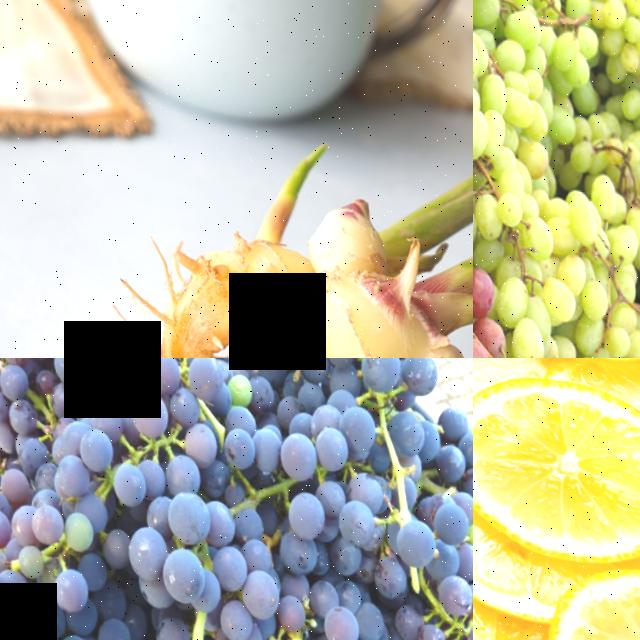ginger: (102, 185, 473, 358)
grapes: (78, 358, 318, 640), (262, 358, 473, 640), (473, 135, 640, 358), (0, 410, 122, 640), (473, 0, 609, 166), (0, 358, 128, 459), (569, 0, 640, 157)
lemon: (473, 358, 640, 562), (534, 540, 640, 640)
